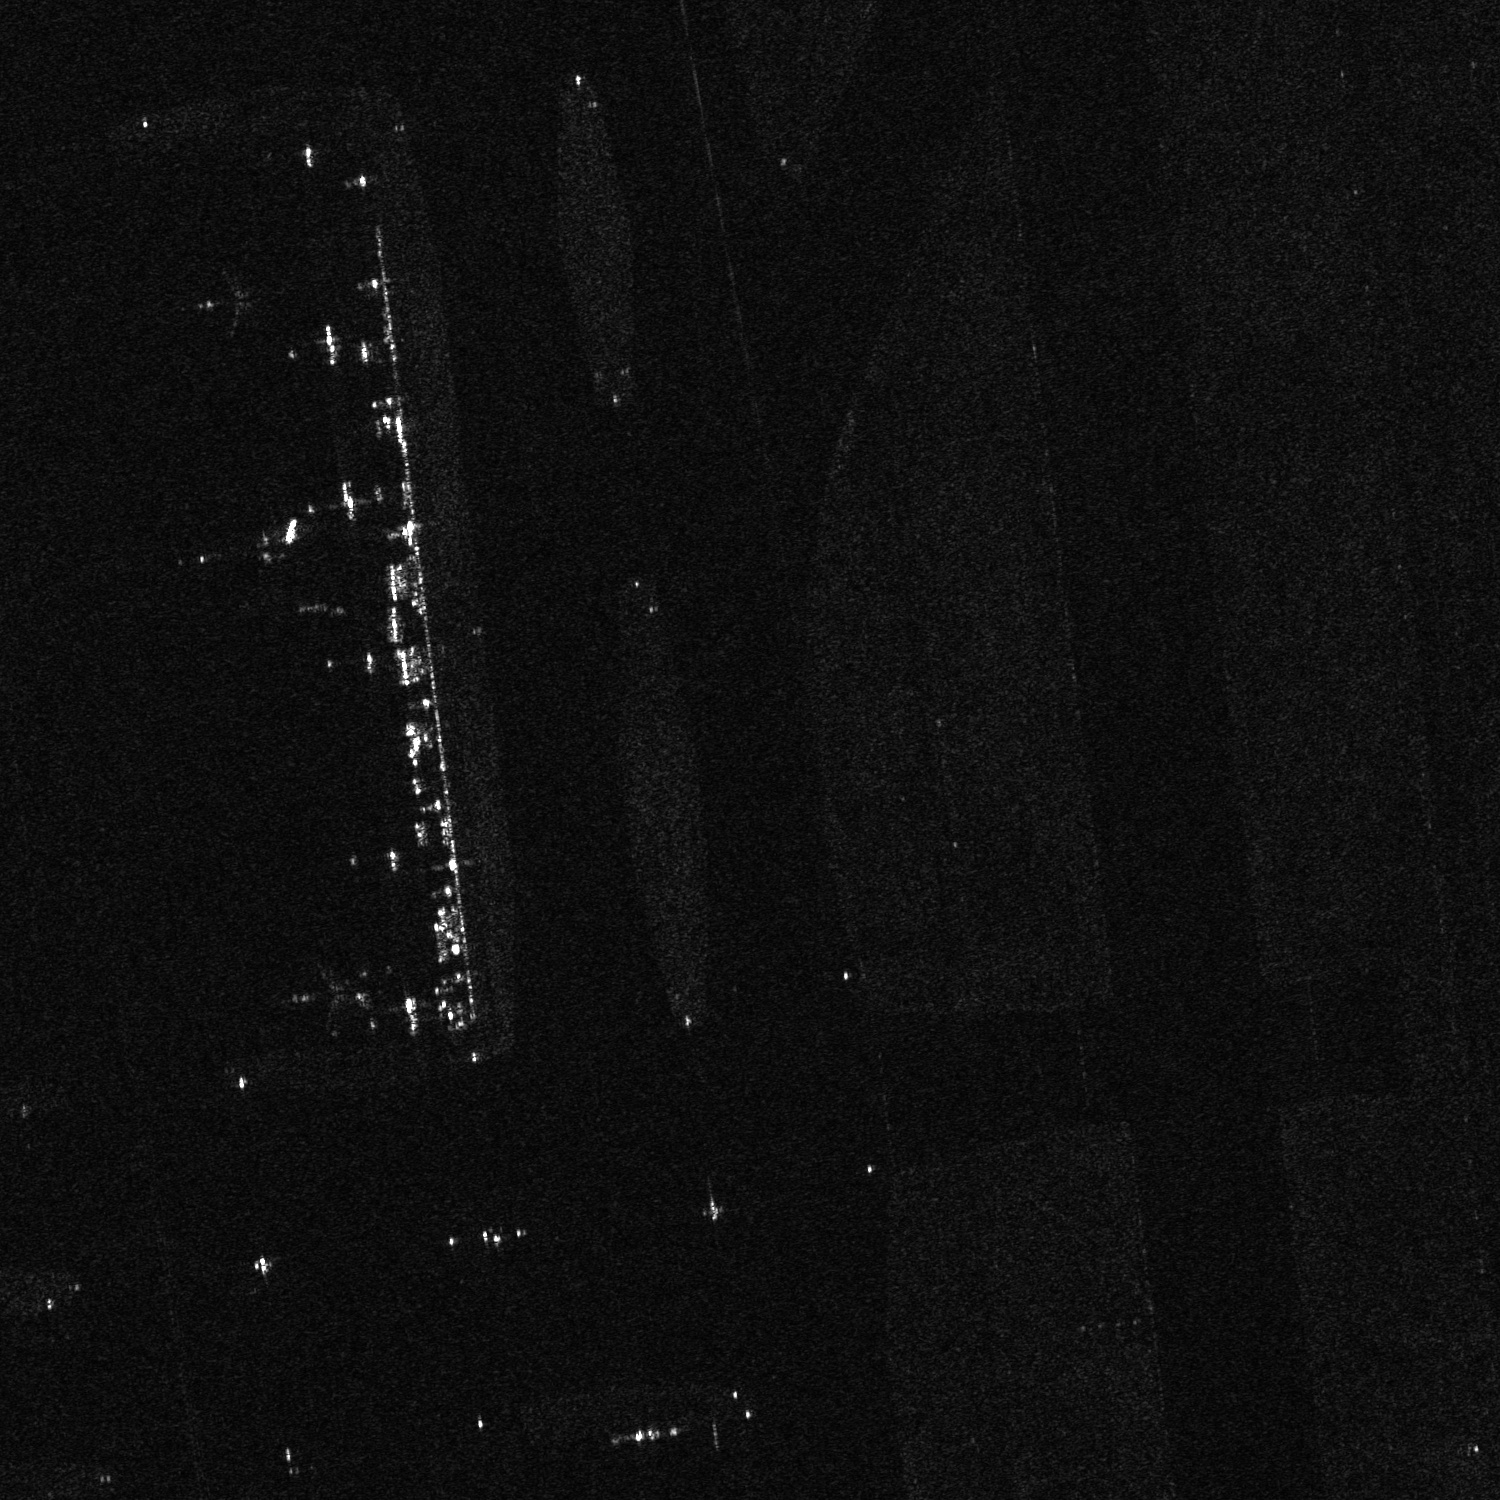Boeing737: (184, 262, 264, 345)
Boeing787: (284, 959, 370, 1040)
